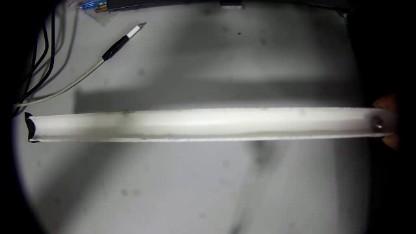gangzhu: (366, 113, 388, 131)
